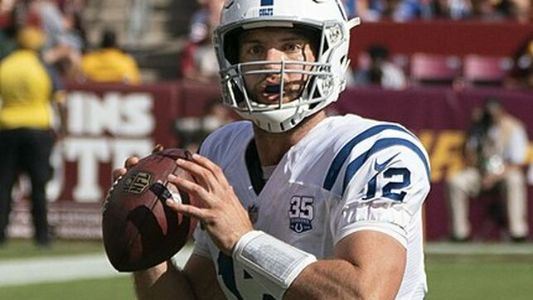futbol americano: (102, 148, 203, 272)
